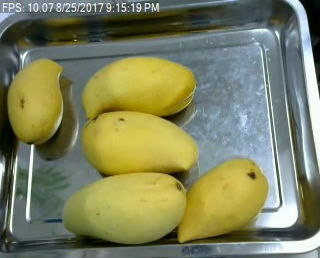Mango: (58, 171, 185, 245), (82, 111, 200, 177), (180, 155, 267, 241), (80, 56, 197, 117), (8, 57, 65, 145)
